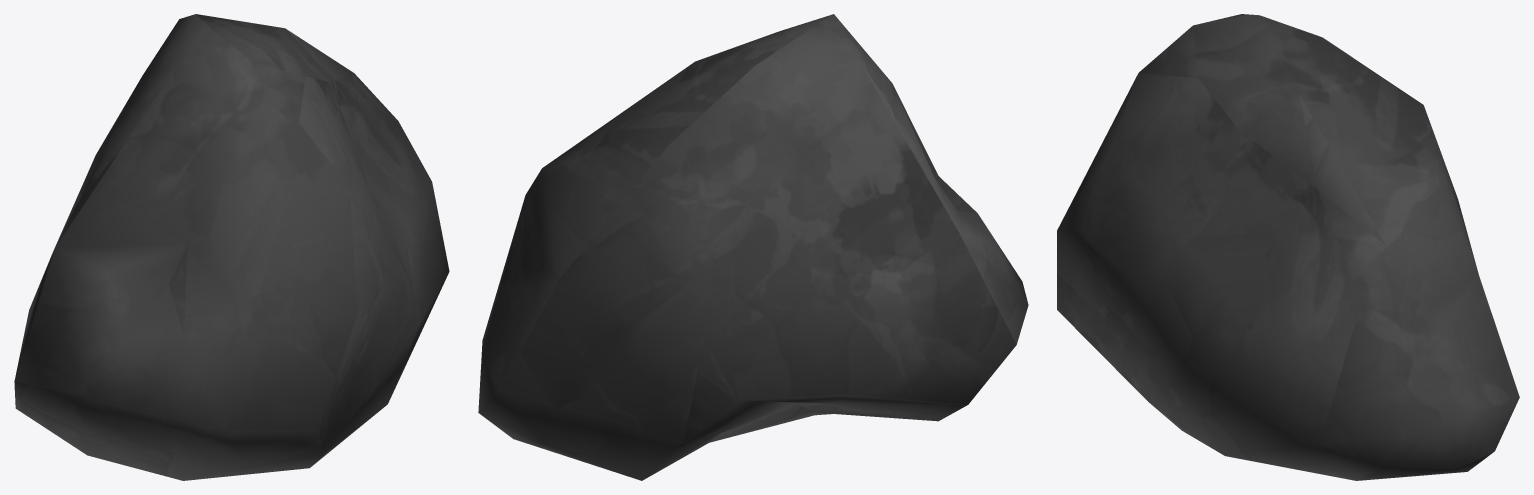
Rendered from rock1.fbx.
3 views of the same model, side by side, from view 1: azimuth 30°, elevation 25°; view 2: azimuth 150°, elevation 25°; view 3: azimuth 270°, elevation 25° (orthographic). The views are drawn at different scales.
Parts seen in each view (by area): view 1: rock1; view 2: rock1; view 3: rock1.
Boxes of the visible parts, left/top/right/bottom form: rock1: left=14, top=14, right=449, bottom=480; rock1: left=478, top=14, right=1028, bottom=480; rock1: left=1057, top=14, right=1519, bottom=480.
Size of the model in its own units: 225 by 189 by 203.
